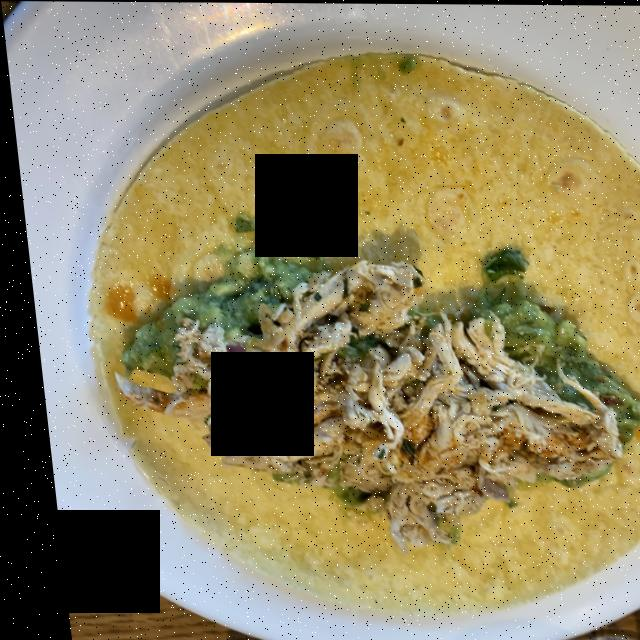chicken: (132, 255, 607, 539)
guacamole: (112, 254, 640, 443)
